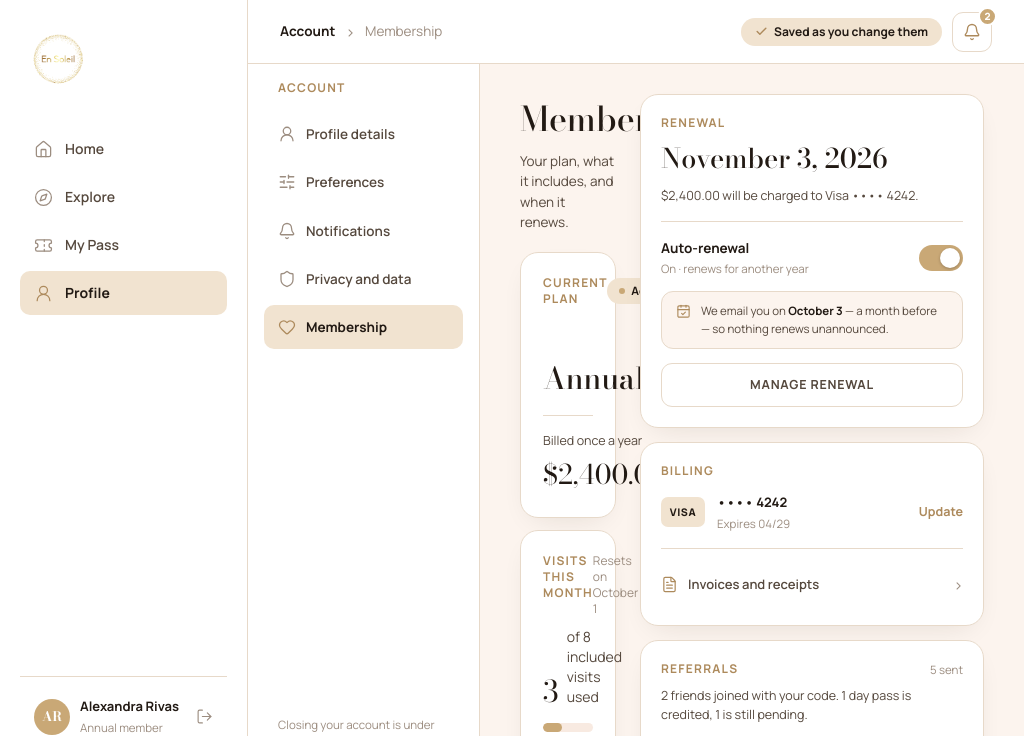
Test: renovación y auto-renovación › abrir Manage renewal muestra el diálogo con las consecuencias de apagarla
The width and height of the screenshot is (1024, 736).
Click the button "Manage renewal" at point(812, 385), box [661,363,963,407]
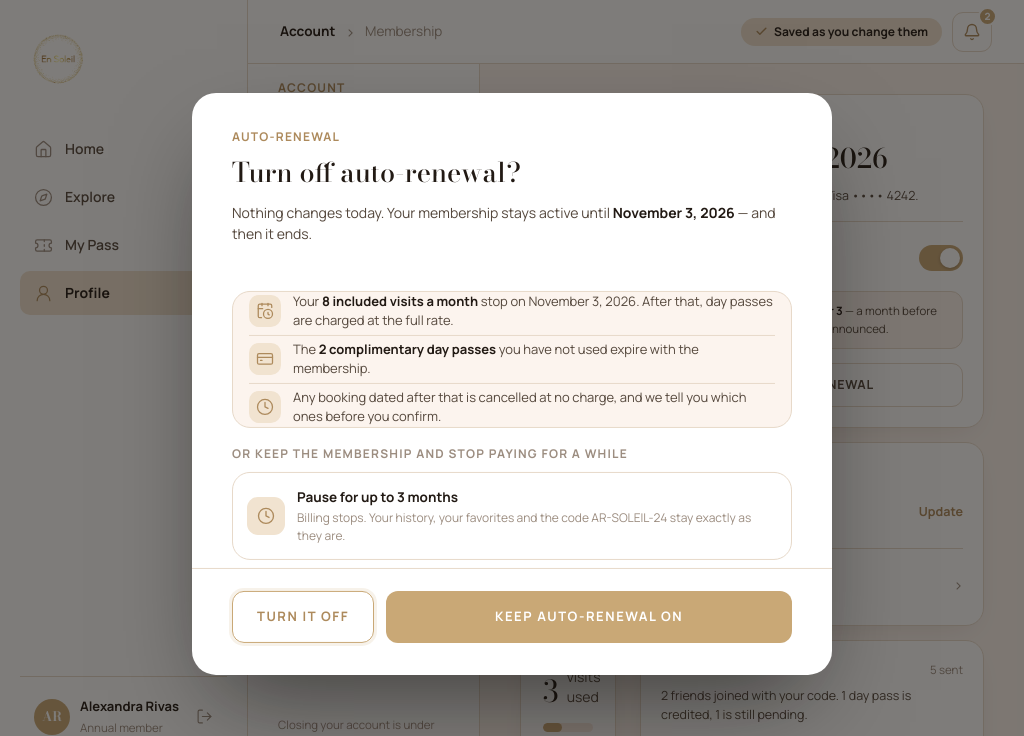
Expected: the heading "Turn off auto-renewal?" is shown, [232,152,521,193]
Expected: the text "Pause for up to 3 months" is shown, [297,488,458,506]
